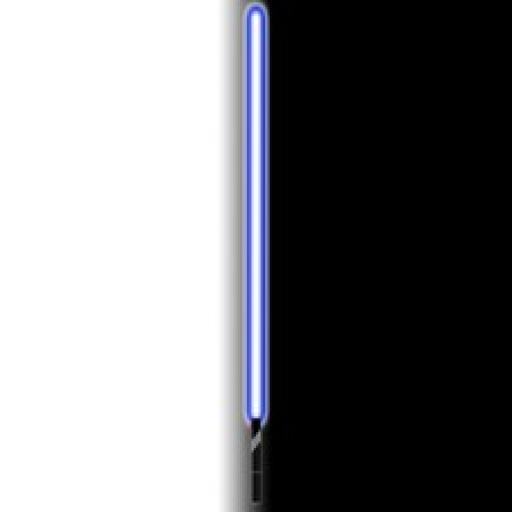lightsaber: (240, 4, 272, 505)
